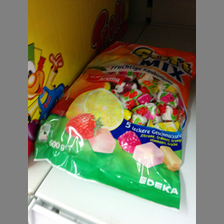candy: (35, 36, 194, 209)
